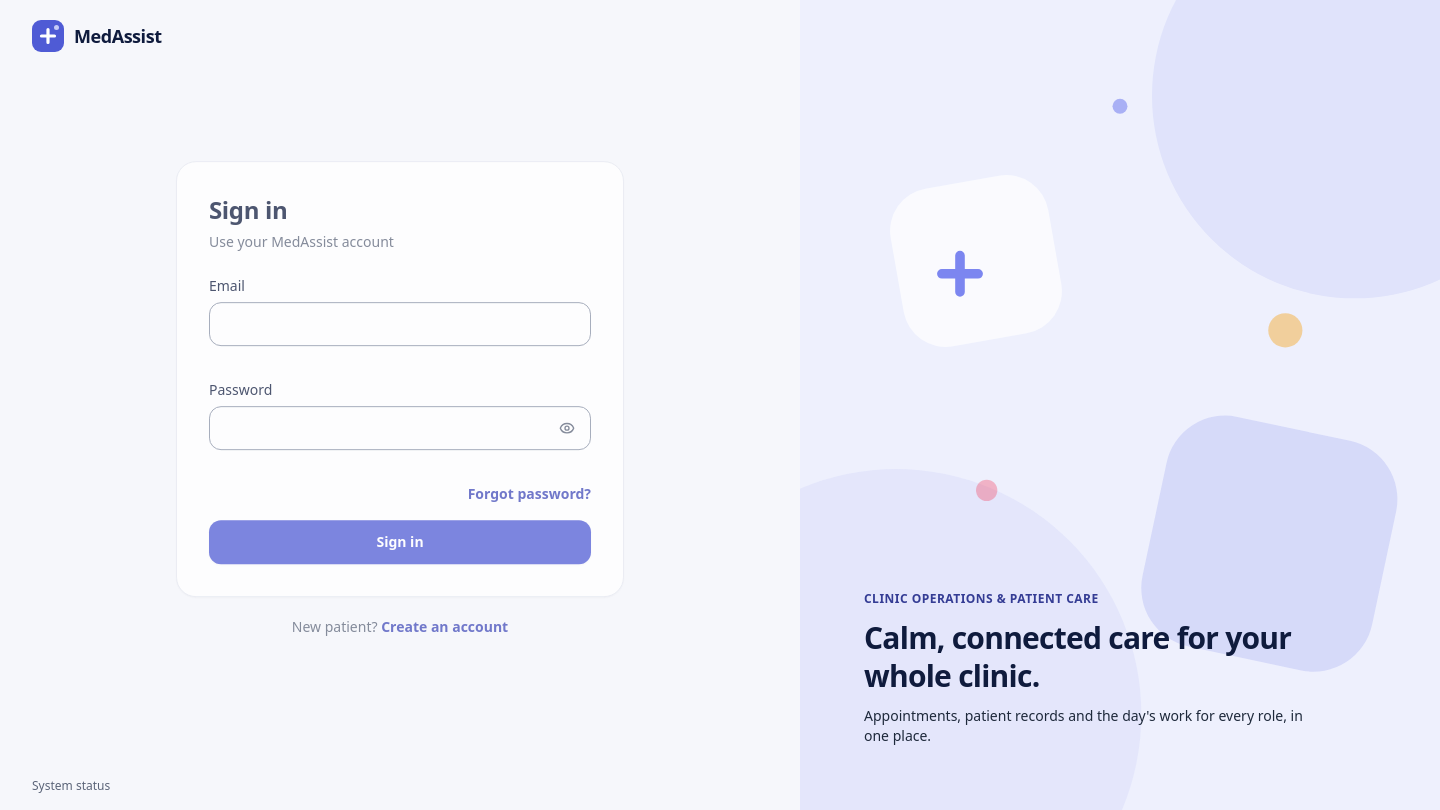
Test: LoginPage › shows the lockout message with the minutes remaining
The width and height of the screenshot is (1440, 810).
Expected: the heading "Sign in" is shown, [209,193,287,226]
In the field labelled "Email": {"x": 400, "y": 324} [209,302,591,346], type "dr.mehta@medassist.dev"
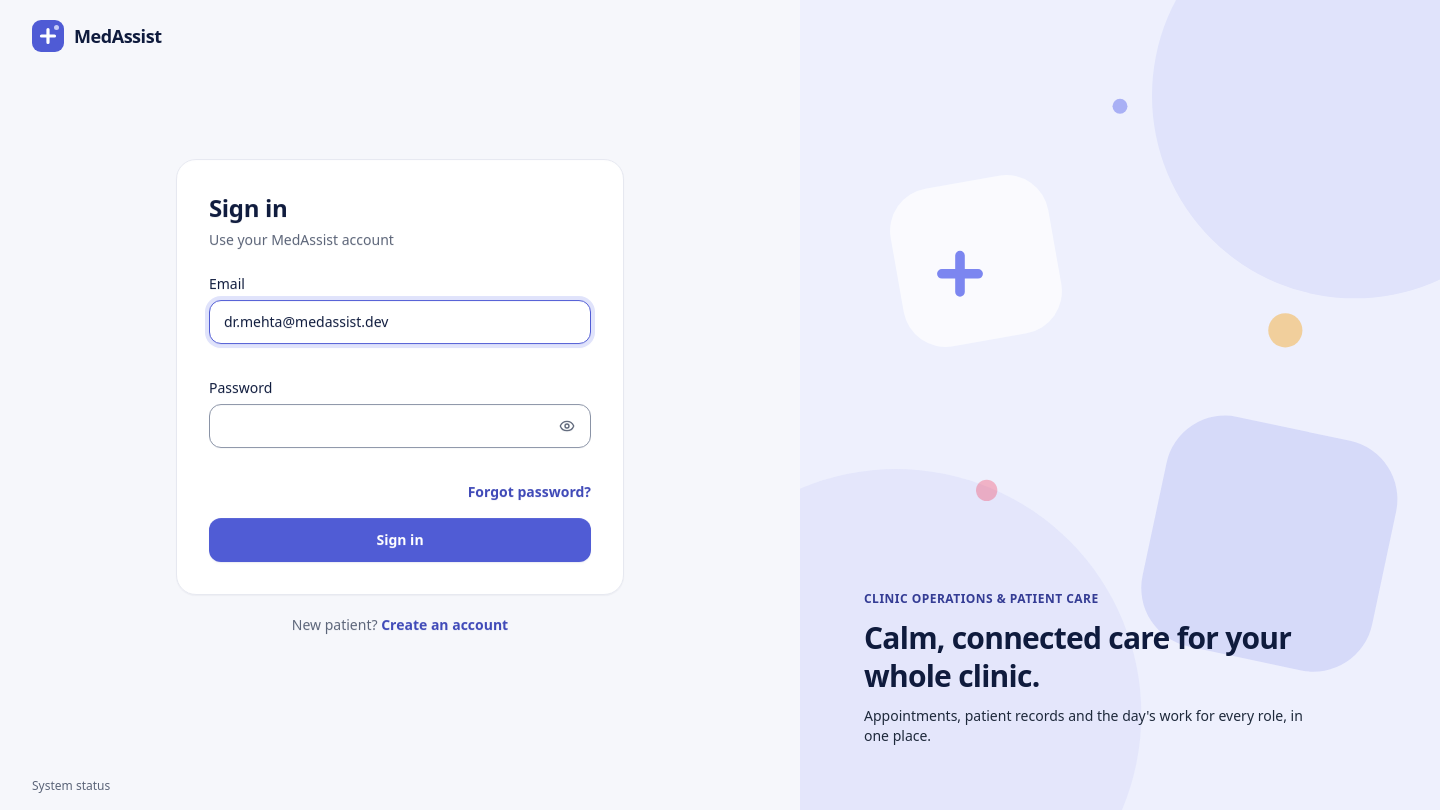
In the password field labelled "Password": {"x": 400, "y": 426} [209,404,591,448], type "Password@123"
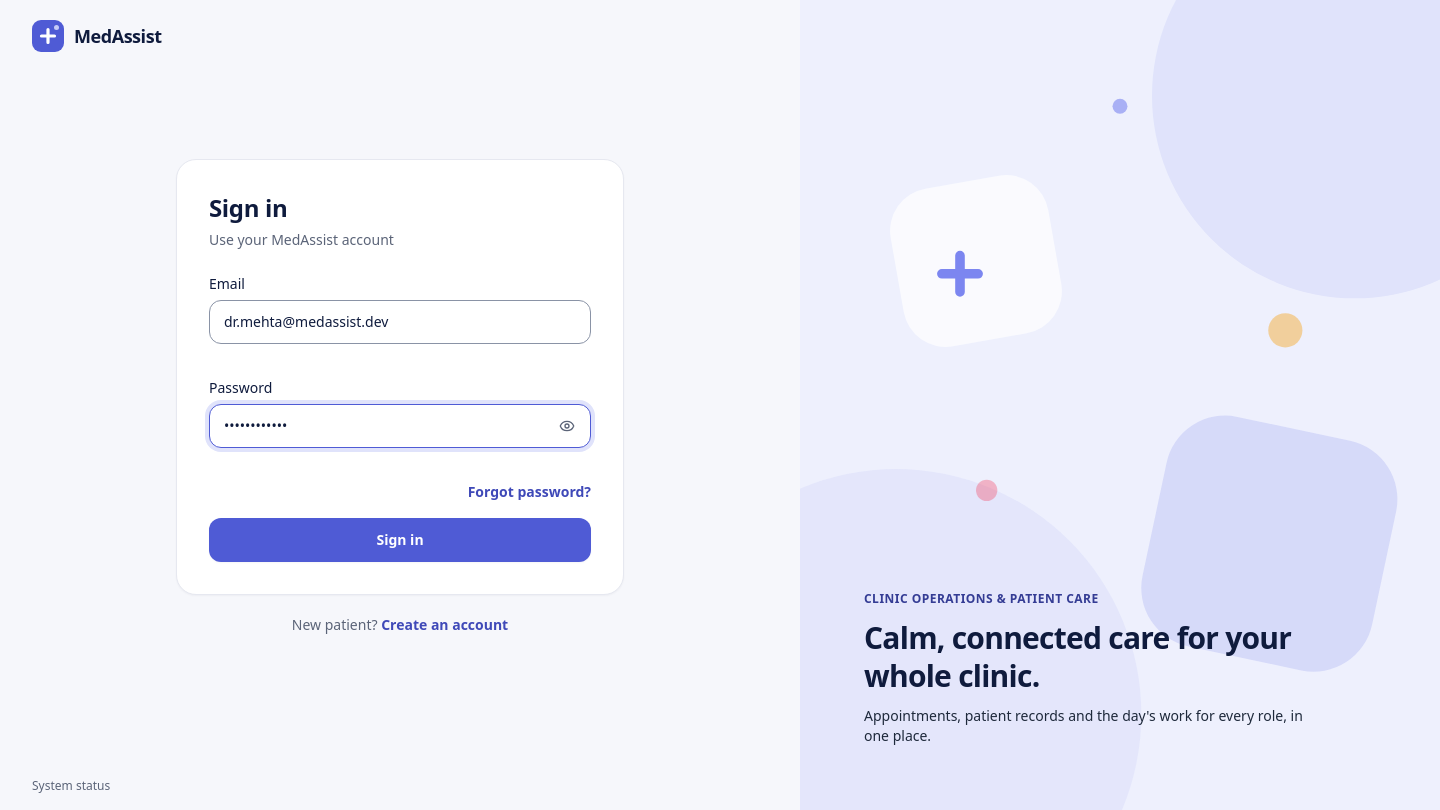
Click the button "Sign in": {"x": 400, "y": 540} [209,518,591,562]
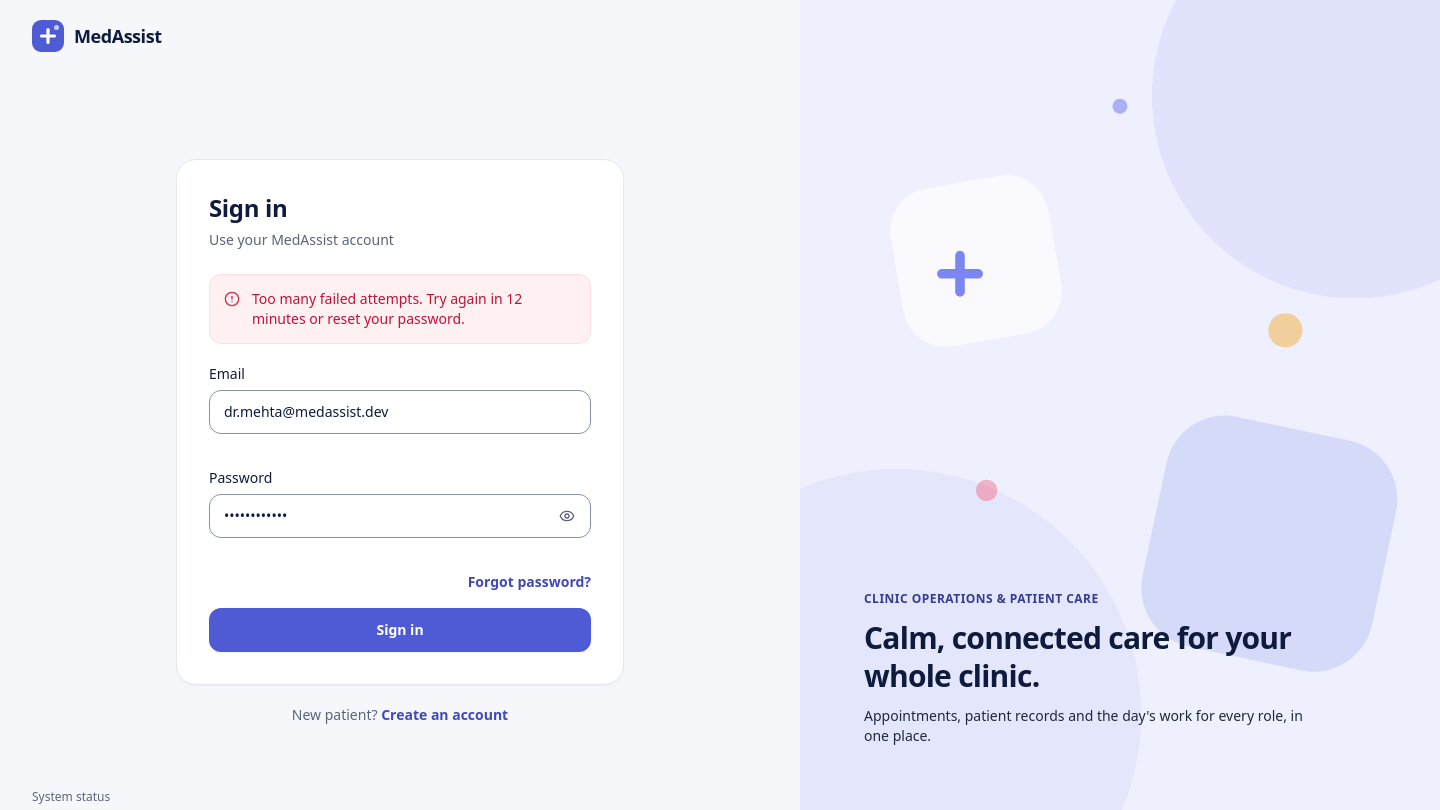
Now the message shows "Try again in 12 minutes", box [252,289,522,328]
